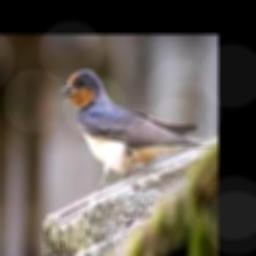Swallow: (59, 70, 203, 191)
